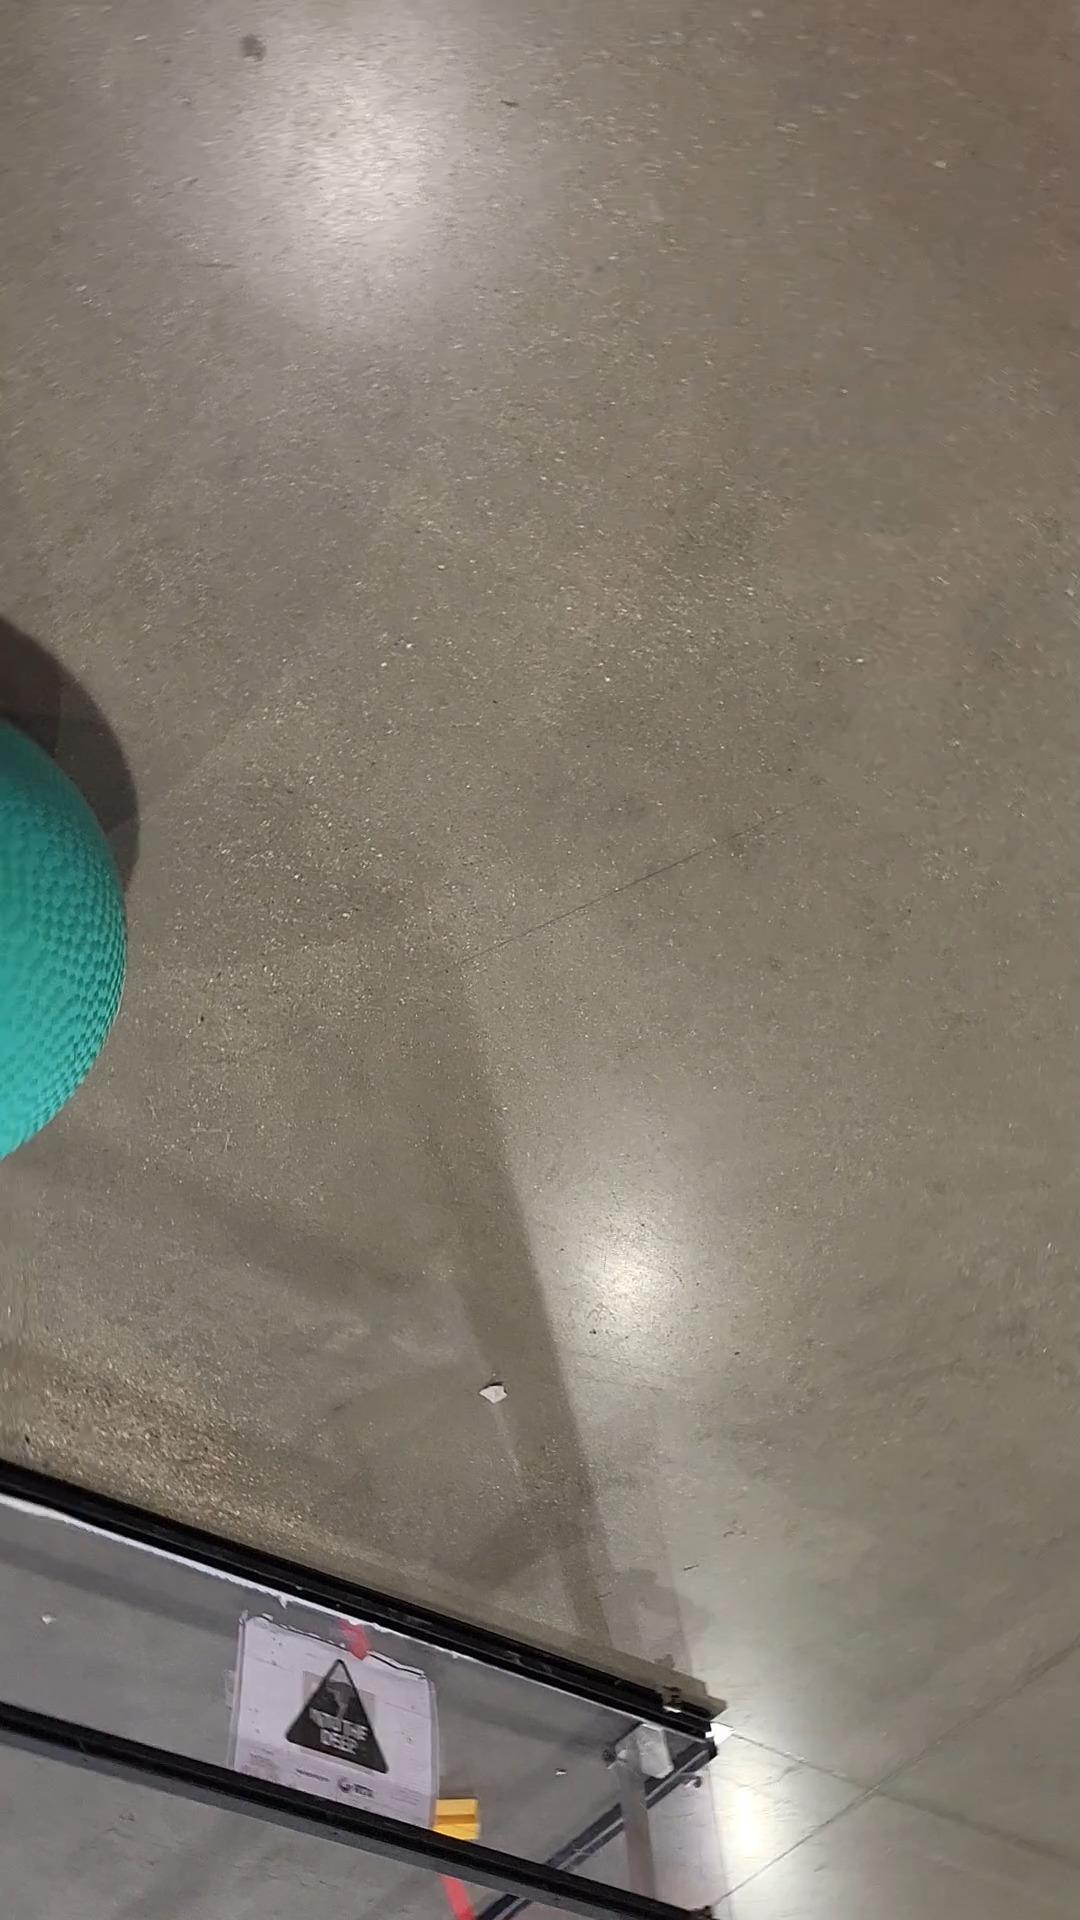algae: (0, 704, 124, 1180)
